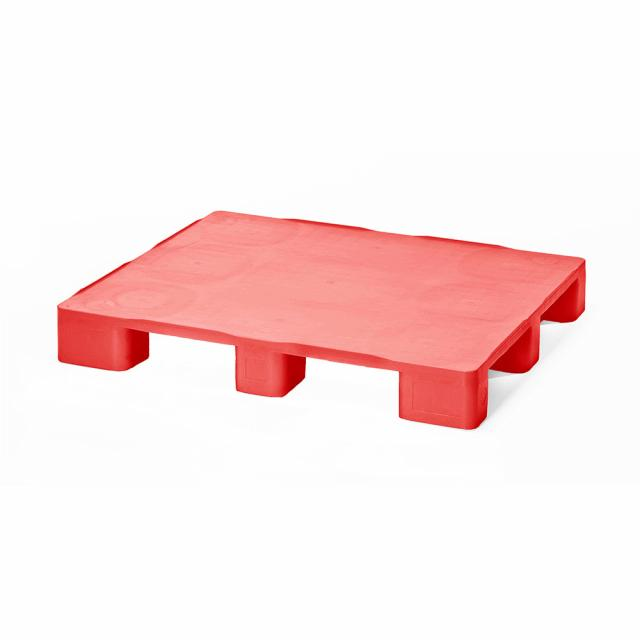block: (396, 366, 479, 430), (55, 308, 136, 373), (233, 339, 294, 396)
front: (56, 304, 474, 434)
